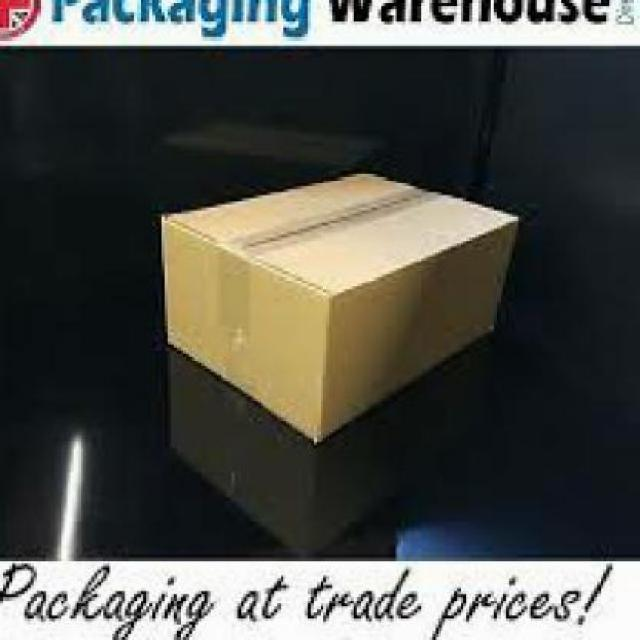box: (149, 162, 531, 472)
